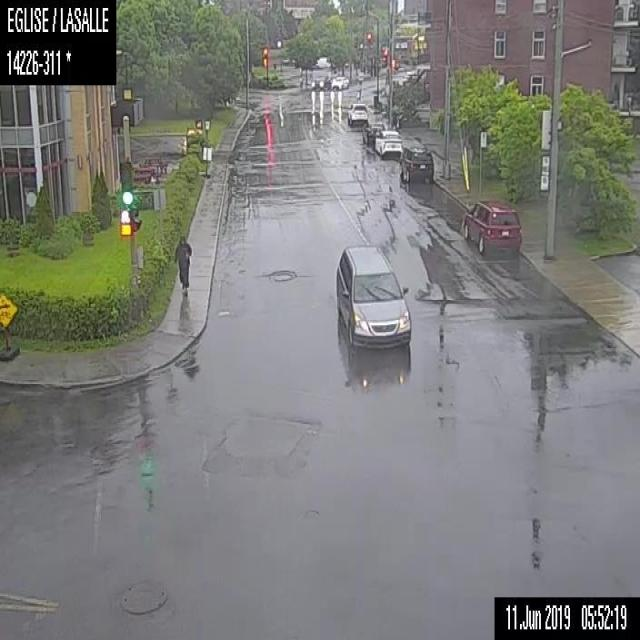pedestrian: (172, 233, 191, 295)
vehicle: (334, 242, 411, 346), (462, 197, 521, 252), (398, 142, 436, 180), (373, 127, 401, 157), (361, 121, 385, 146), (346, 102, 368, 127), (310, 74, 330, 91), (331, 75, 348, 92)
